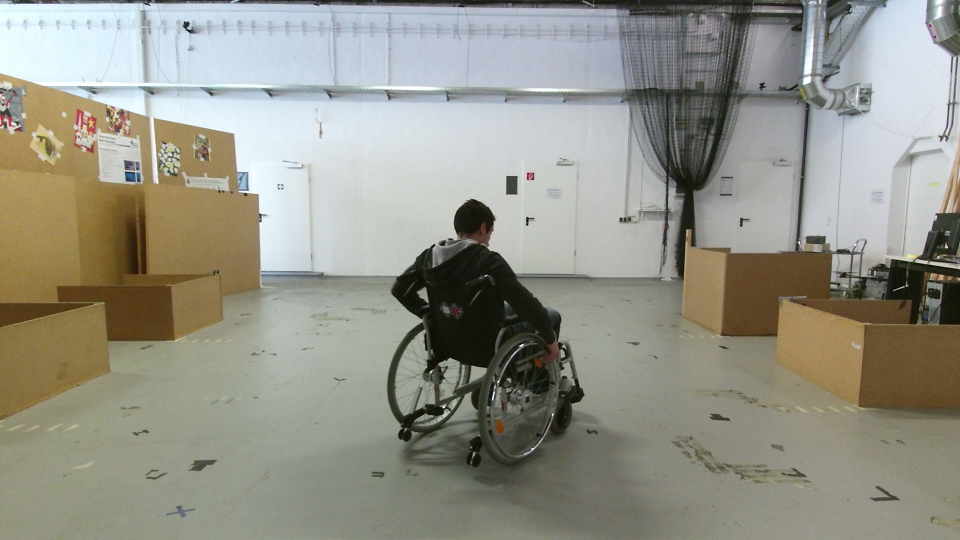wheelchair: (377, 197, 585, 475)
